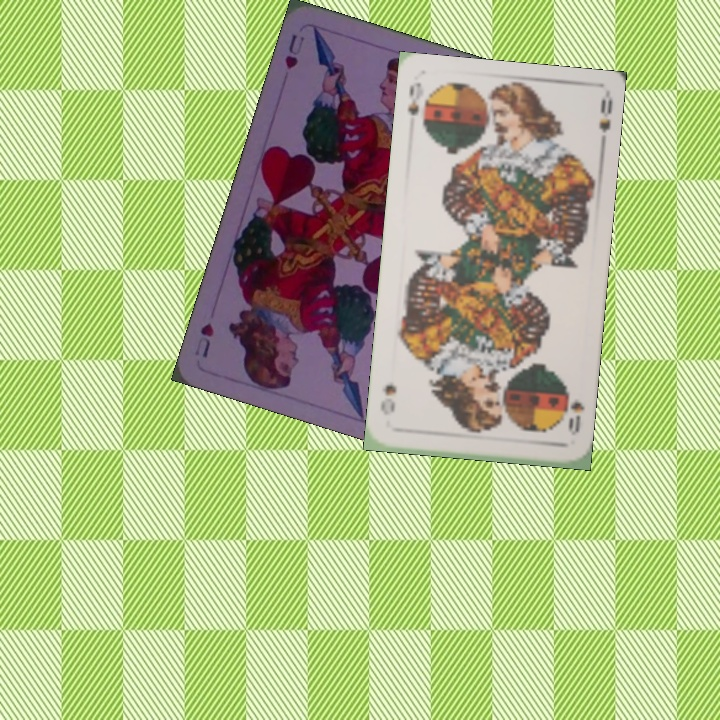HU: (280, 30, 307, 72)
SO: (564, 397, 588, 438), (404, 78, 423, 118)
